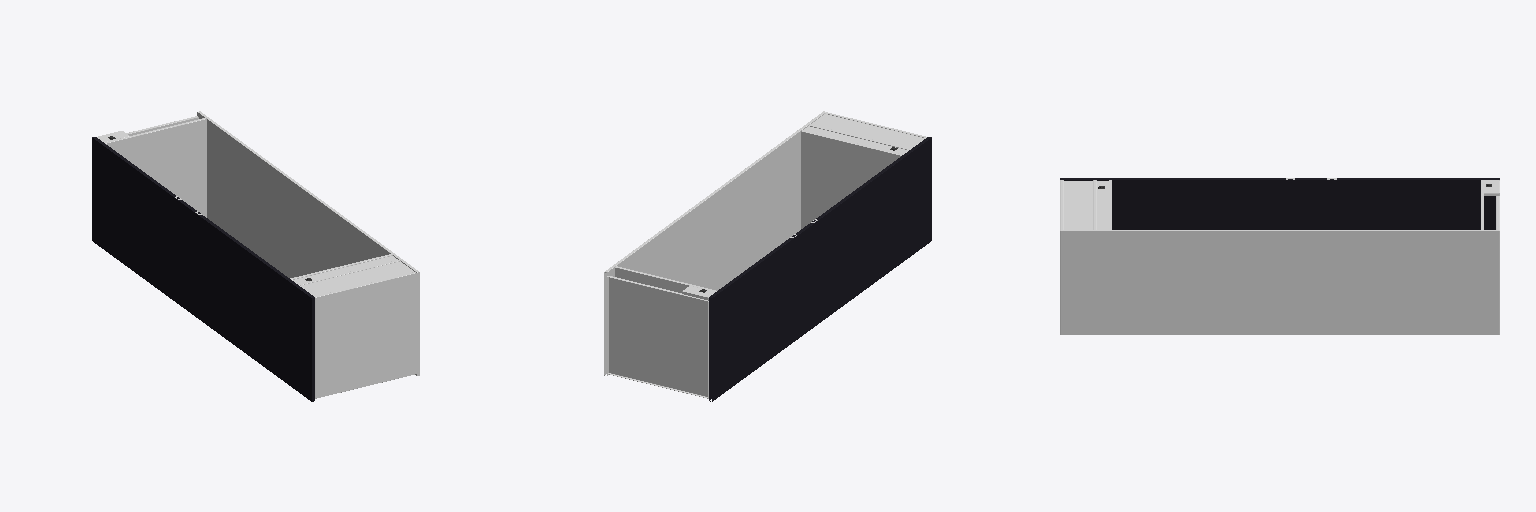
3 renders of one model, left to right at view 1: azimuth 30°, elevation 25°; view 2: azimuth 150°, elevation 25°; view 3: azimuth 270°, elevation 25°, orthographic.
Parts seen in each view (by area): view 1: SM_Kitchen_03_Fridge; view 2: SM_Kitchen_03_Fridge; view 3: SM_Kitchen_03_Fridge.
Boxes of the visible parts, x1=… form: SM_Kitchen_03_Fridge: x1=92, y1=111, x2=419, y2=401; SM_Kitchen_03_Fridge: x1=604, y1=111, x2=931, y2=401; SM_Kitchen_03_Fridge: x1=1060, y1=178, x2=1499, y2=334.
Bounding box in the file's own units: 0.6039 × 0.5609 × 2.13.
Materials: 3 (3 with a texture image).